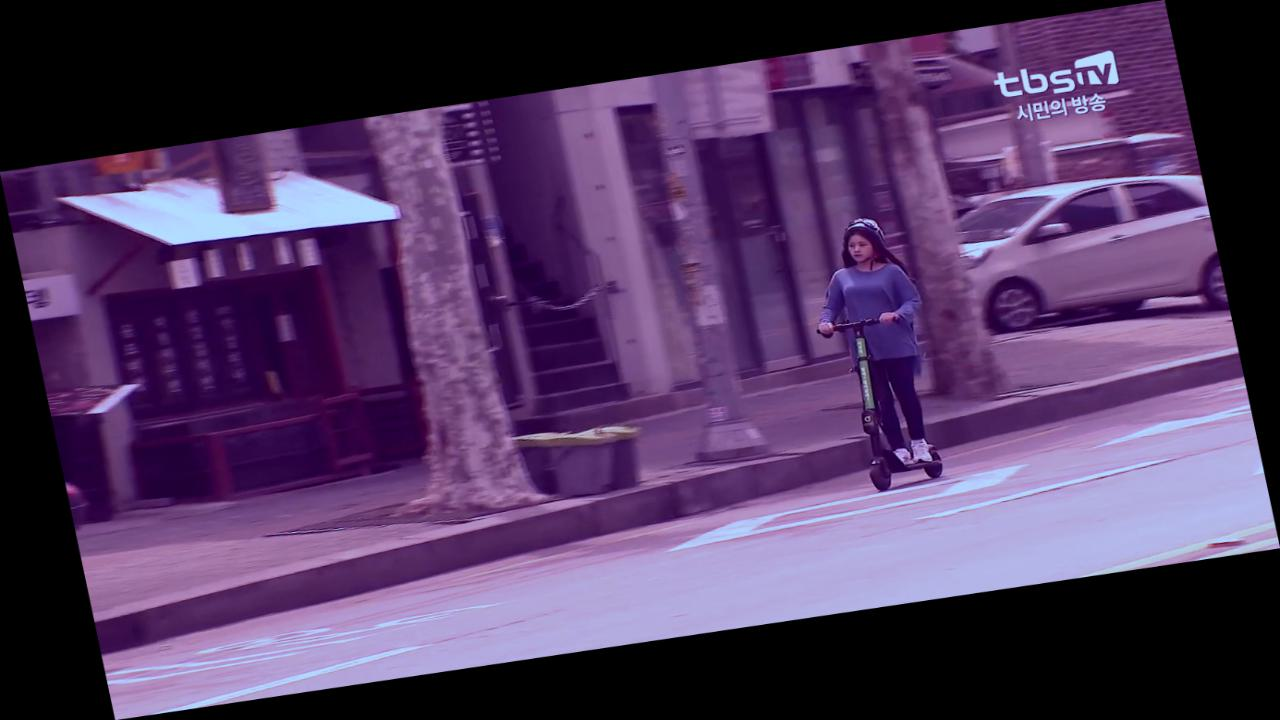helmet: (792, 211, 965, 498)
